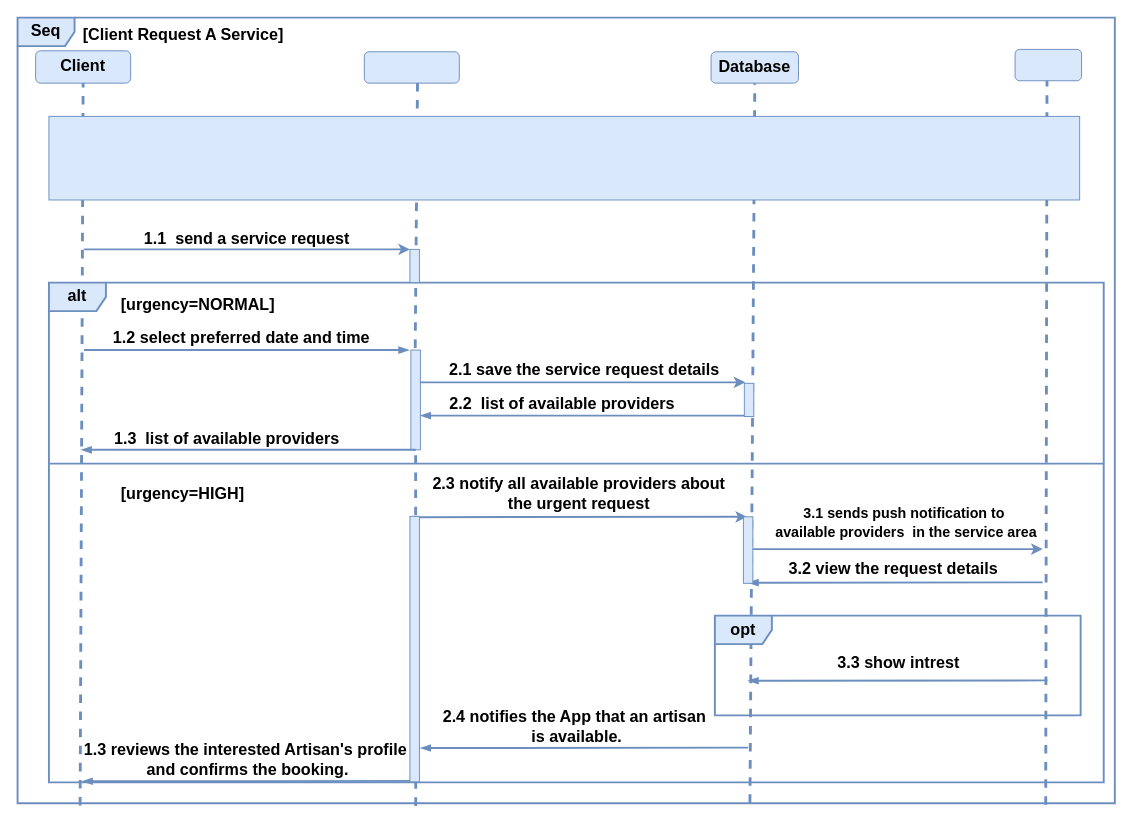
This 1131x825 diagram has some shape labels left out. Each missing label, with the centre of its shape:
Artisan: the point at 1048,64
Authentication: the point at 564,157
Client App: the point at 411,67
